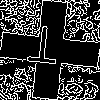T: (25, 25, 60, 73)
